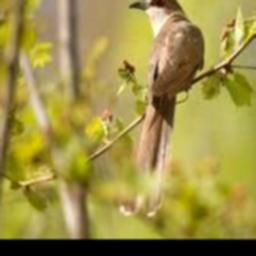Cuckoo: (121, 0, 206, 216)
